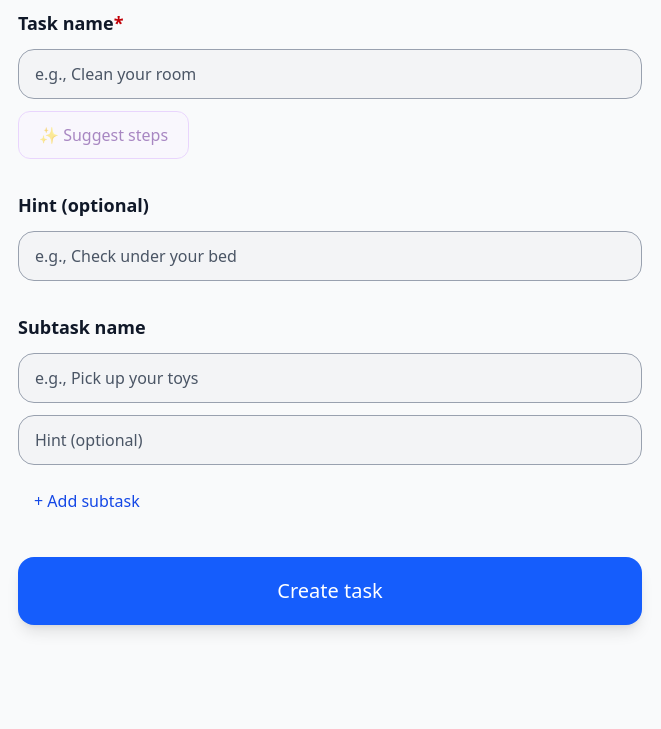
Test case: AddTask - AI step suggestions › shows the server's friendly message for a busy or refused request
Type "Clean your room" into the field labelled "Task name*" at point(330, 74), box [18, 49, 642, 99]
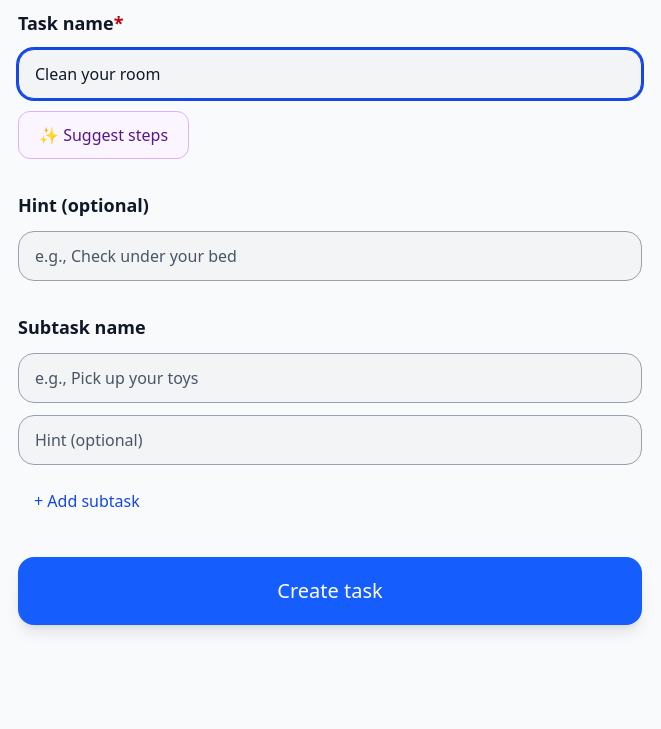
Click the button "✨ Suggest steps" at point(104, 135), box [18, 111, 189, 159]
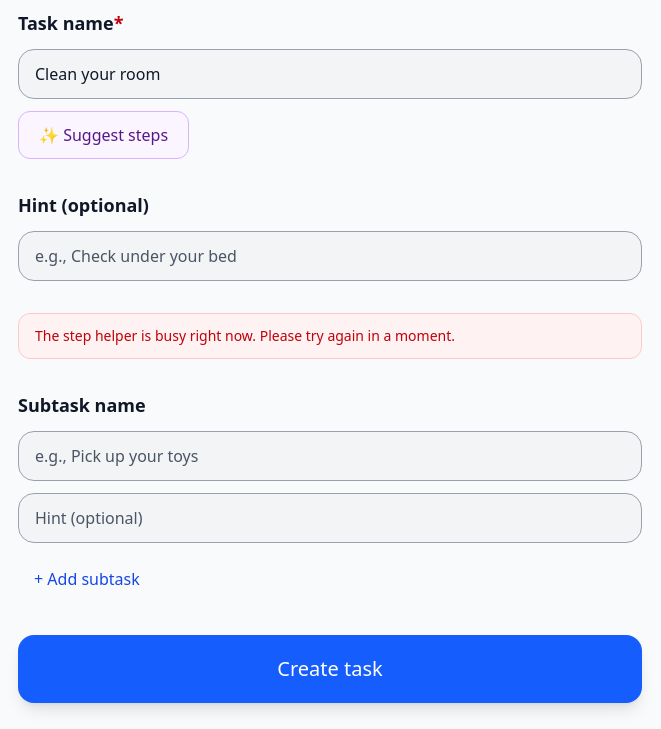
Expected: the message shows "busy right now", [35, 326, 455, 345]
